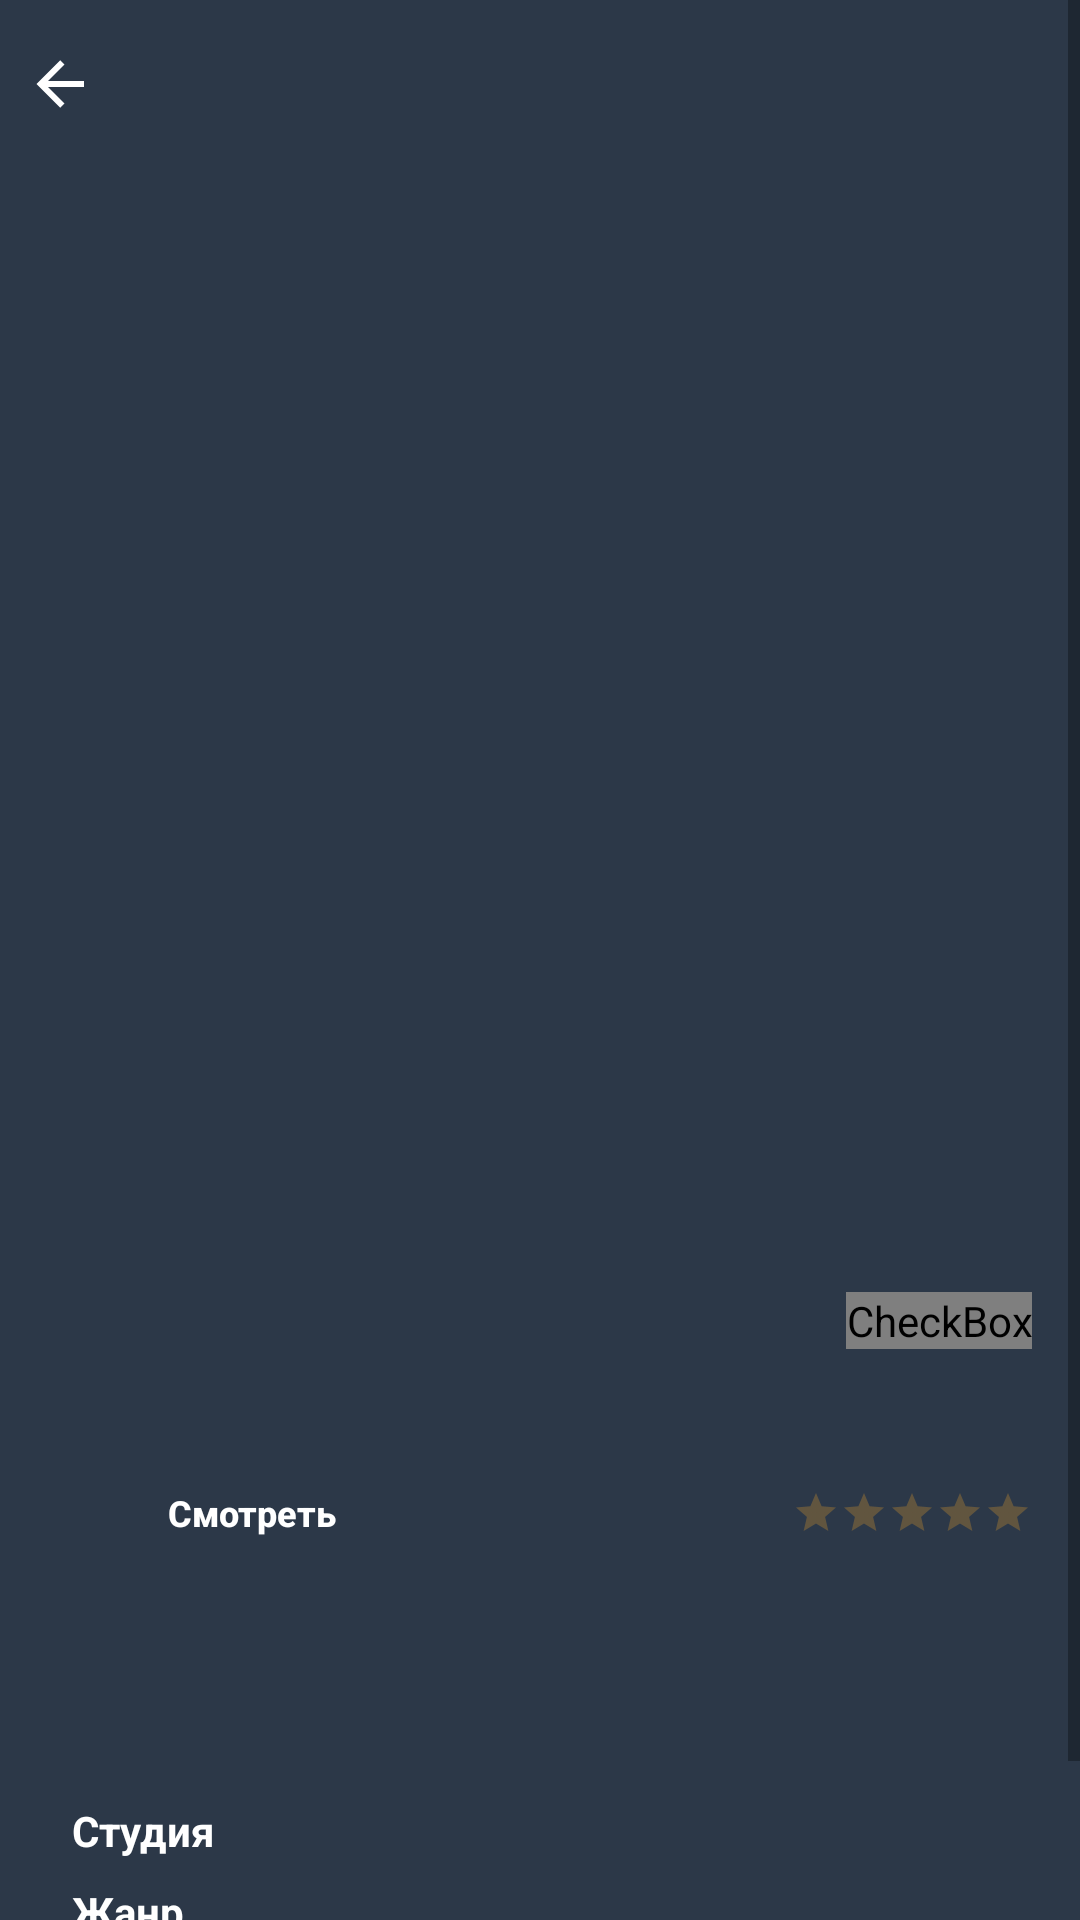

Icons on this 1080px x 1920px Android screen, each with its box as region(x1, y1, x2, y2):
arrow back: region(36, 60, 84, 108)
